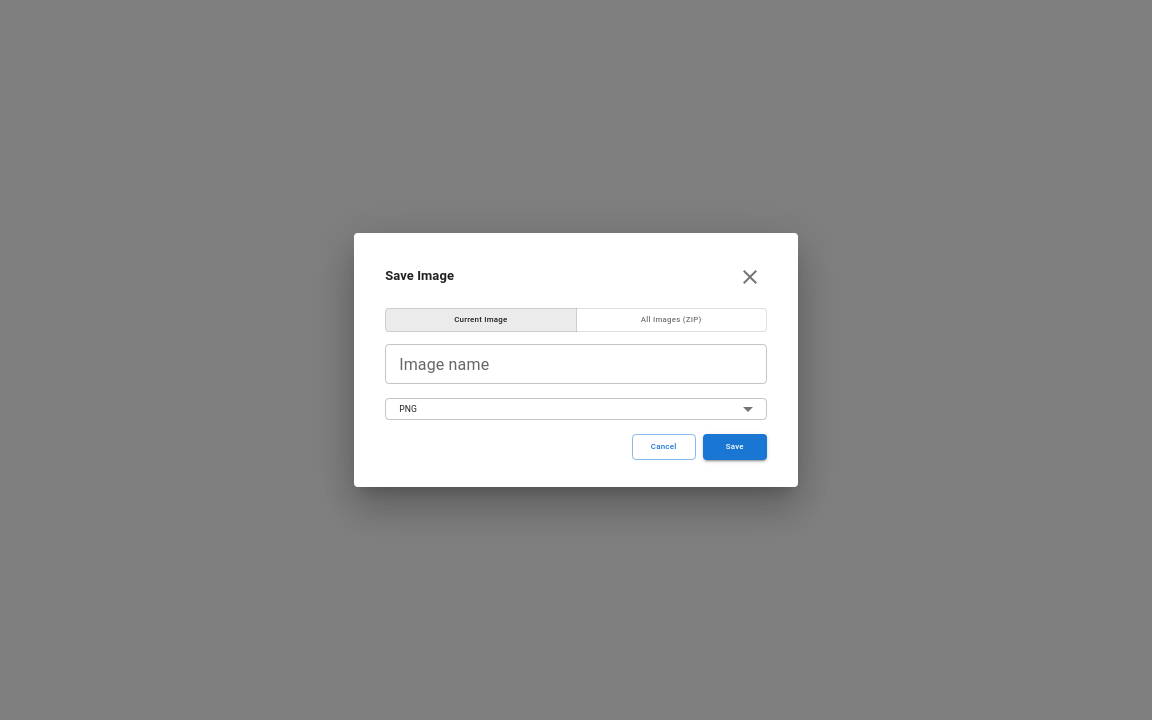
Scenario: SaveDialog › individual mode – label validation › shows an invalid-chars error when the label contains special characters
The width and height of the screenshot is (1152, 720).
In the field: (576, 364) [385,344,767,384], type "bad@label"
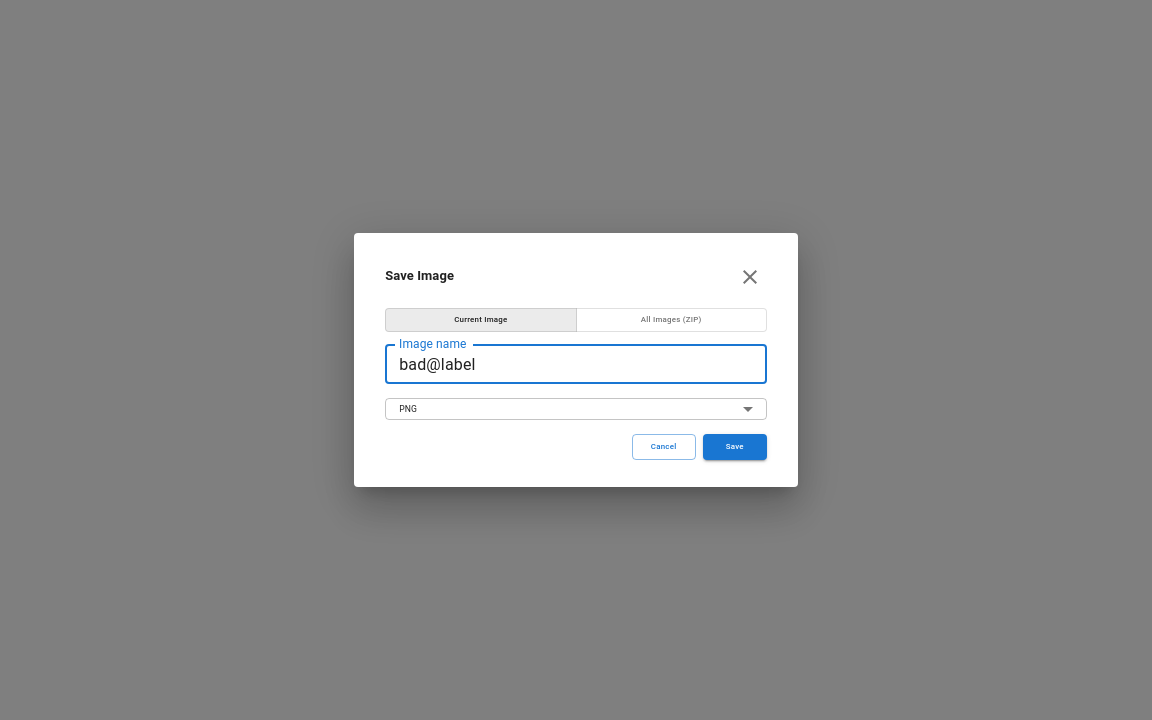
Click the button "Save": click(735, 447) [703,434,767,460]
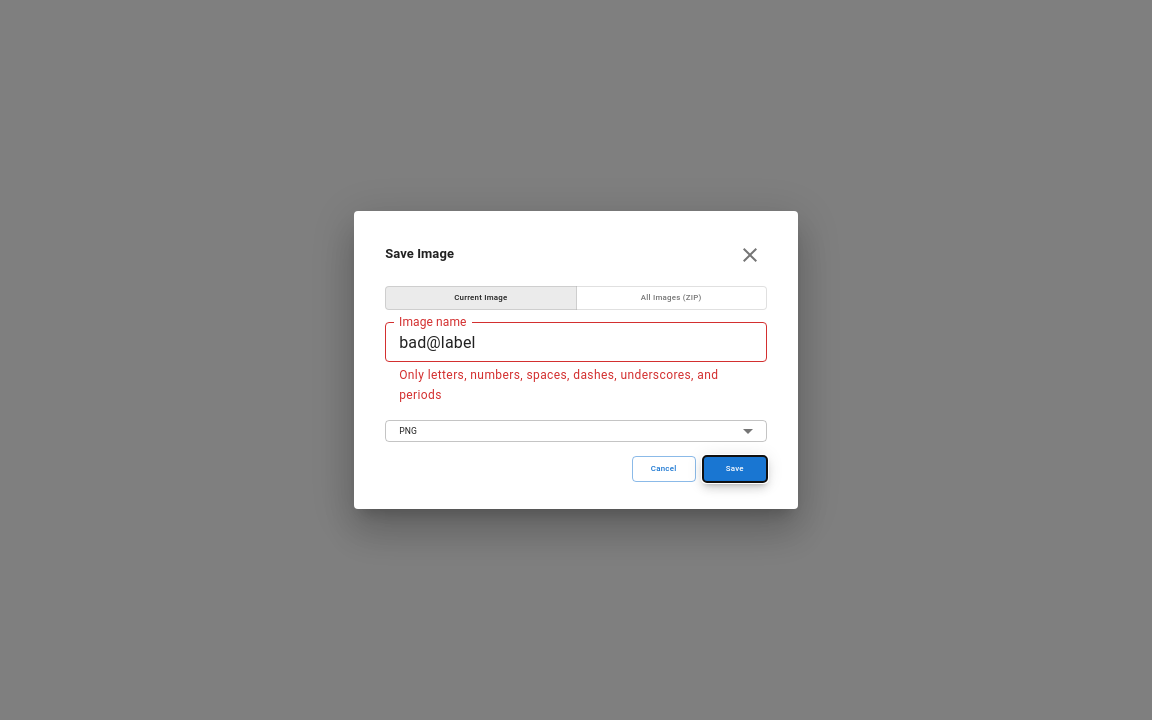
Expected: the text "Only letters, numbers, spaces, dashes, underscores, and periods" is shown, [399,366,753,406]
